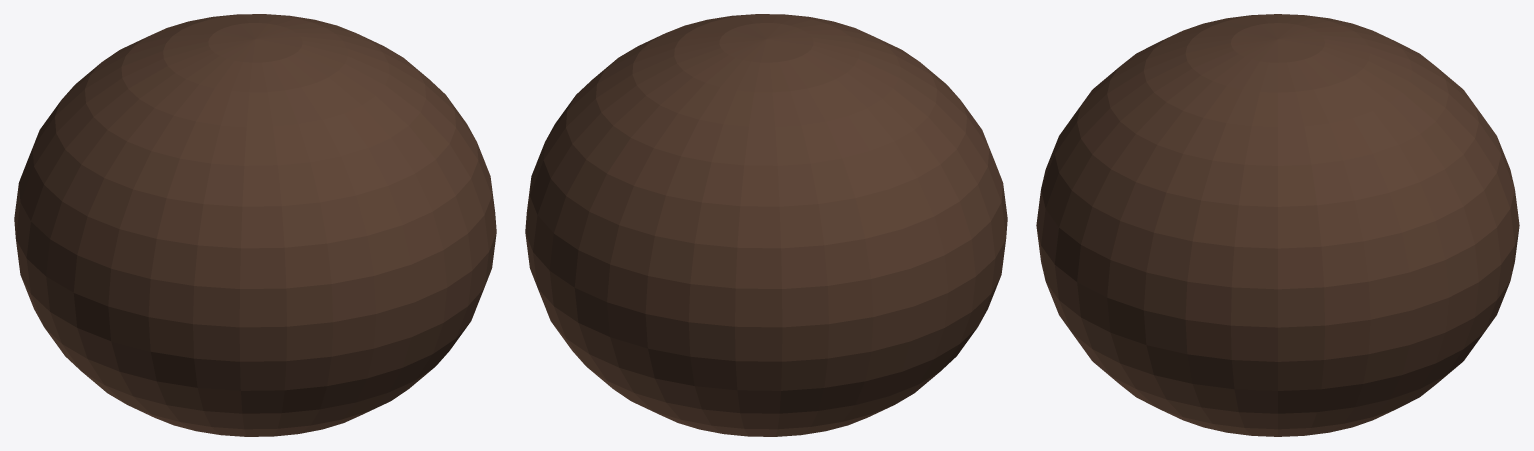
The model's file is hair_style2.glb.
The picture shows the model from 3 angles, left to right: view 1: azimuth 30°, elevation 25°; view 2: azimuth 150°, elevation 25°; view 3: azimuth 270°, elevation 25°; orthographic projection.
Parts seen in each view (by area): view 1: hair_style2; view 2: hair_style2; view 3: hair_style2.
Part boxes in pixels (bbox=[...]): hair_style2: bbox=[14, 14, 496, 436]; hair_style2: bbox=[525, 14, 1007, 436]; hair_style2: bbox=[1036, 14, 1519, 436].
Size of the model in its own units: 0.56 by 0.476 by 0.56.
